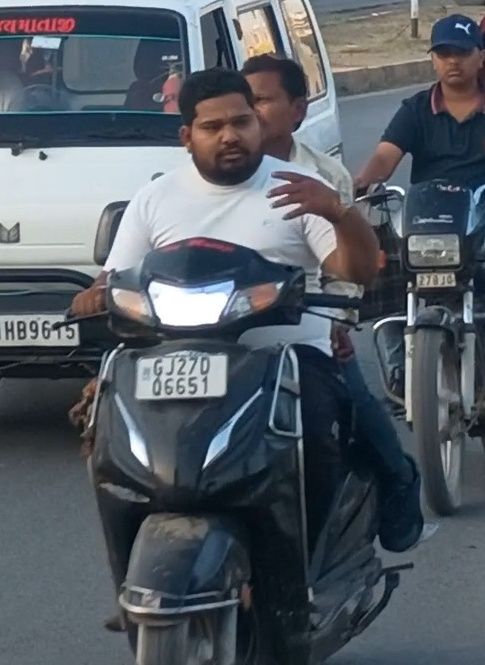BikeWithRider: (51, 46, 424, 665), (336, 10, 485, 515)
NoHelmet: (176, 71, 265, 182), (239, 52, 315, 151), (419, 13, 485, 100)
